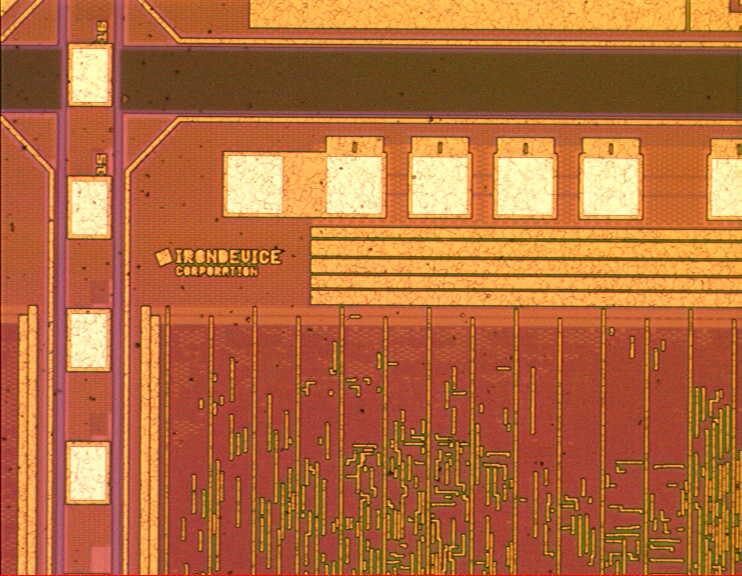PO CONTAMINATION: (1, 1, 724, 569)
